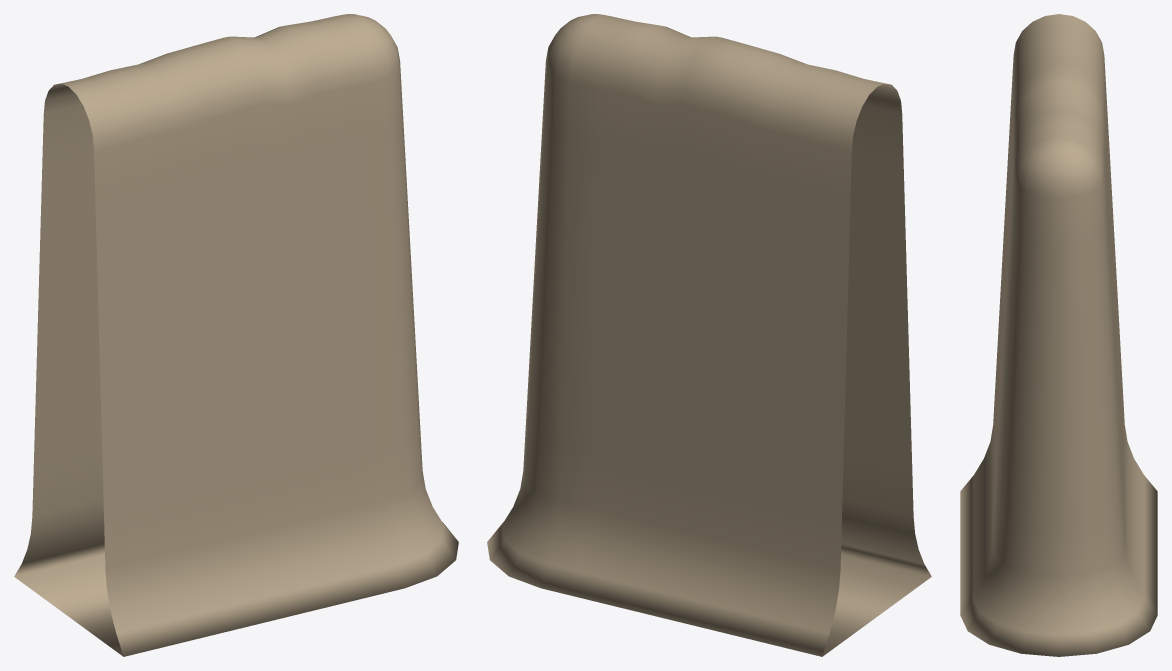
Rendered from KFB_Wall_end.r1.glb.
The picture shows the model from 3 angles, left to right: view 1: azimuth 30°, elevation 25°; view 2: azimuth 150°, elevation 25°; view 3: azimuth 270°, elevation 25°; orthographic projection. The views are drawn at different scales.
Parts seen in each view (by area): view 1: KFB_Wall_end; view 2: KFB_Wall_end; view 3: KFB_Wall_end.
Part boxes in pixels (bbox=[...]): KFB_Wall_end: bbox=[14, 14, 458, 656]; KFB_Wall_end: bbox=[487, 14, 931, 656]; KFB_Wall_end: bbox=[960, 14, 1157, 656].
Size of the model in its own units: 2.68 by 3.64 by 1.35.
